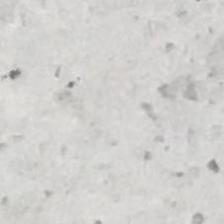Non_Crack: (14, 28, 212, 196)
